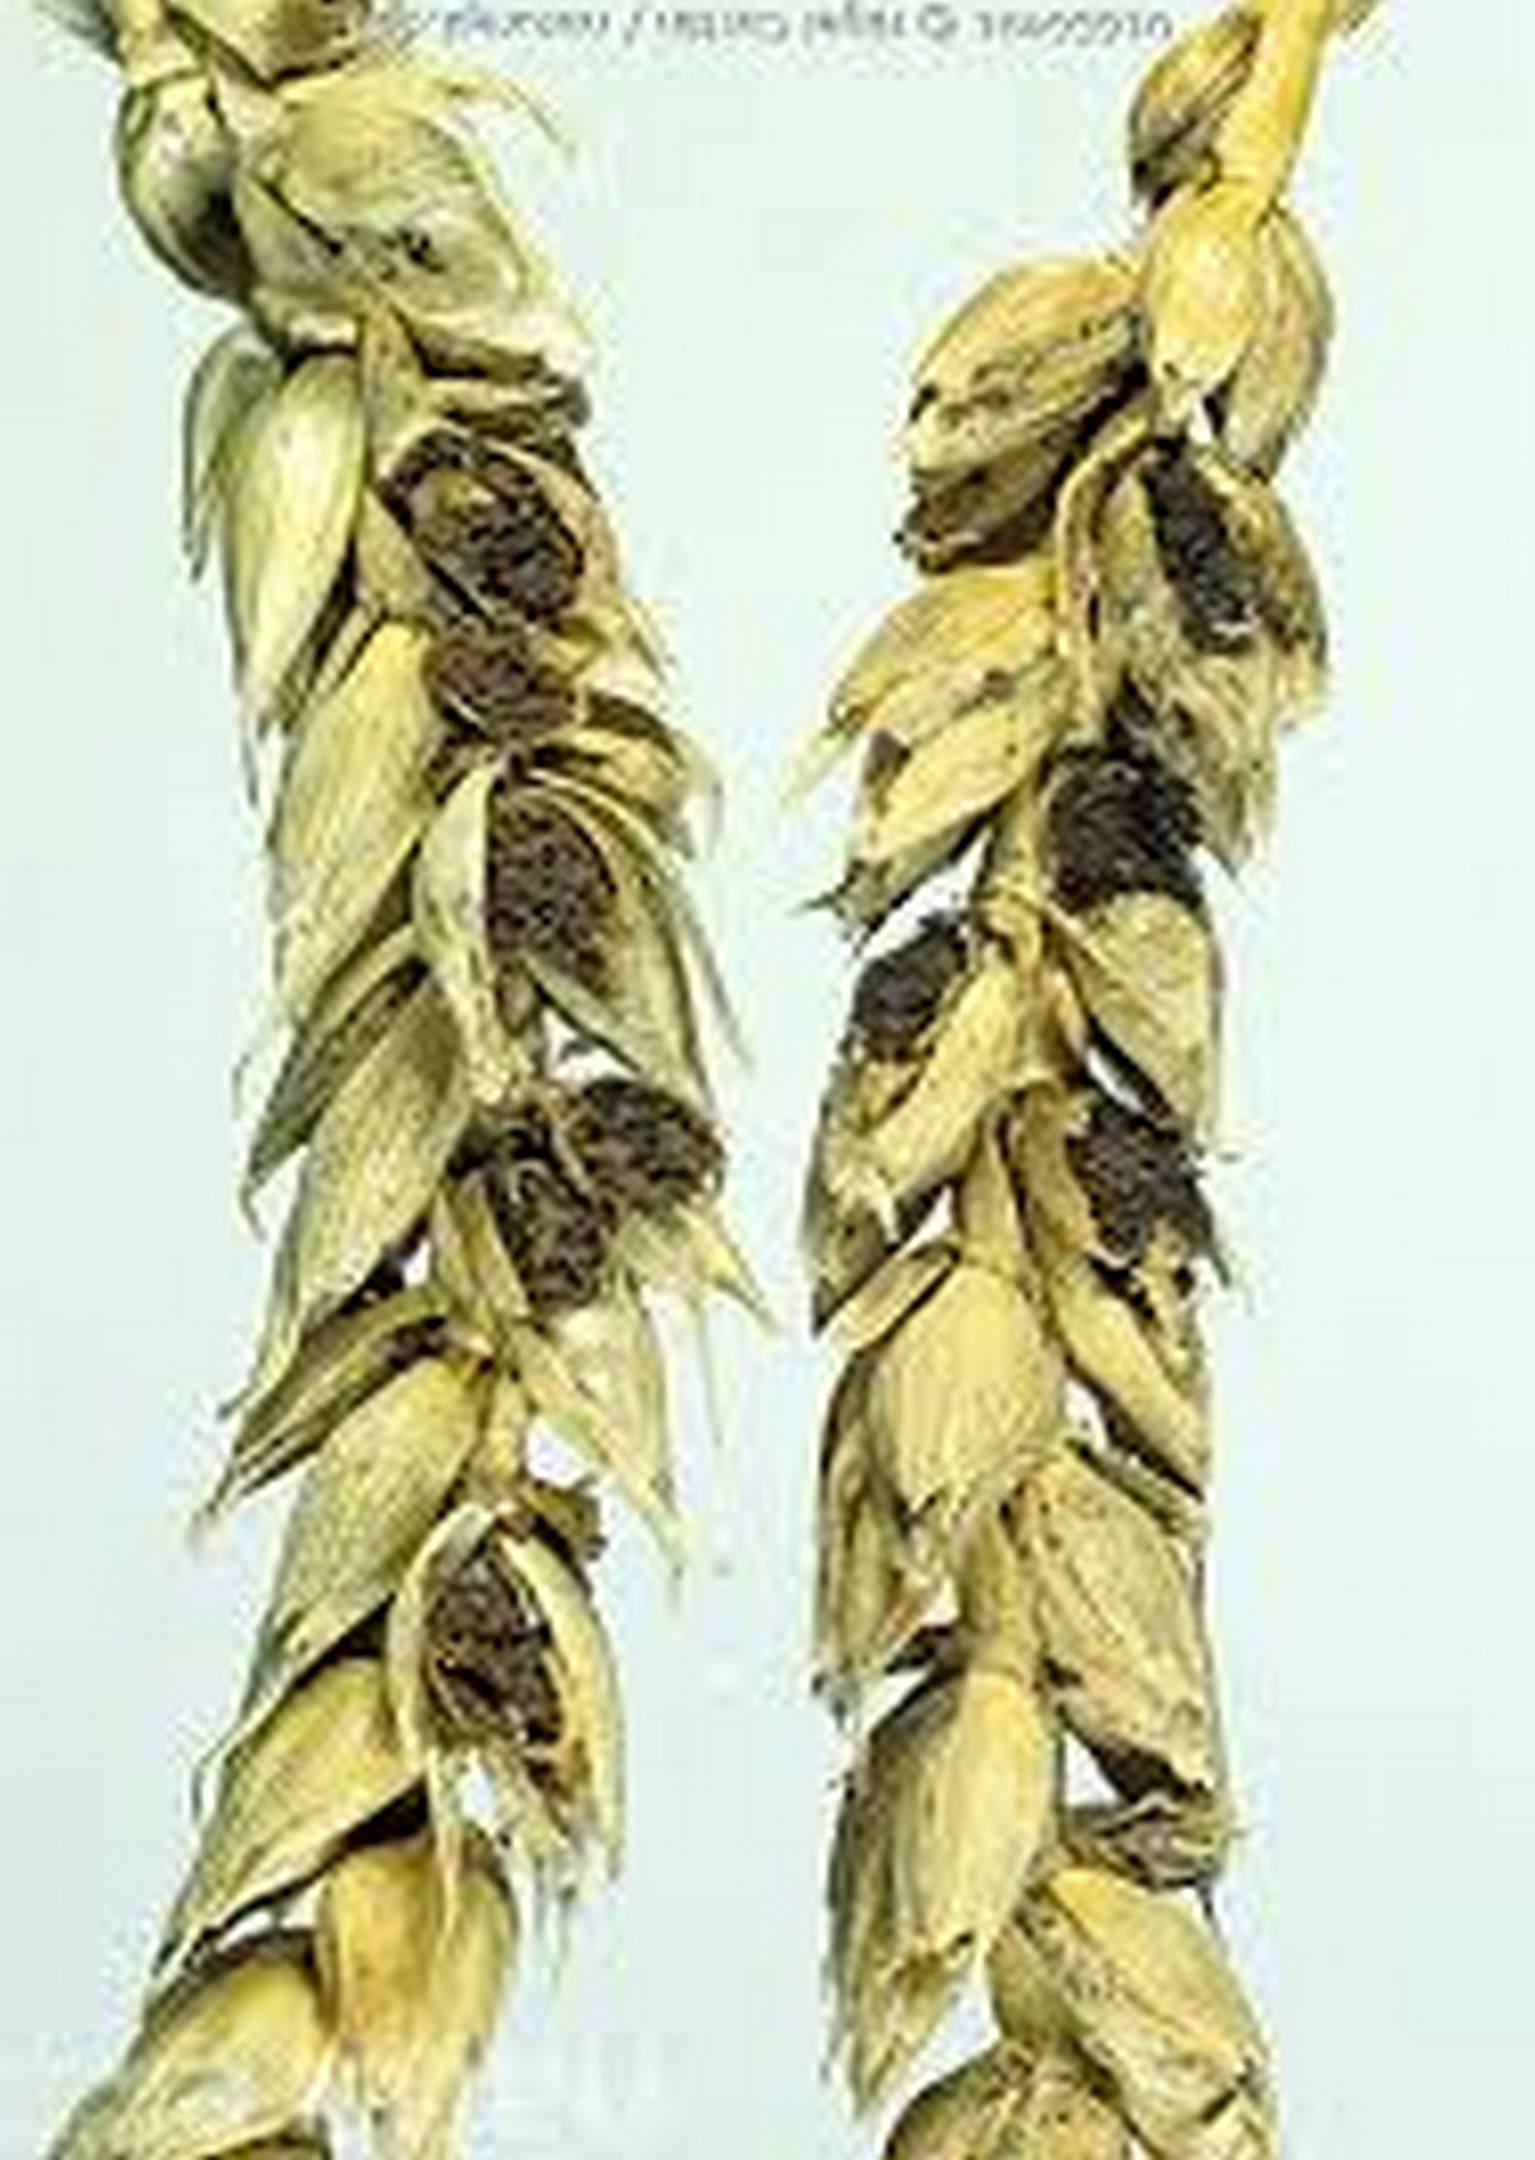Wheat Loose Smut: (146, 208, 1351, 1703)
